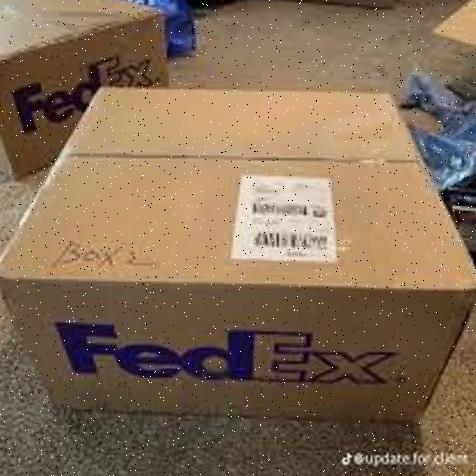FedEx: (5, 90, 468, 431), (1, 1, 181, 178)
